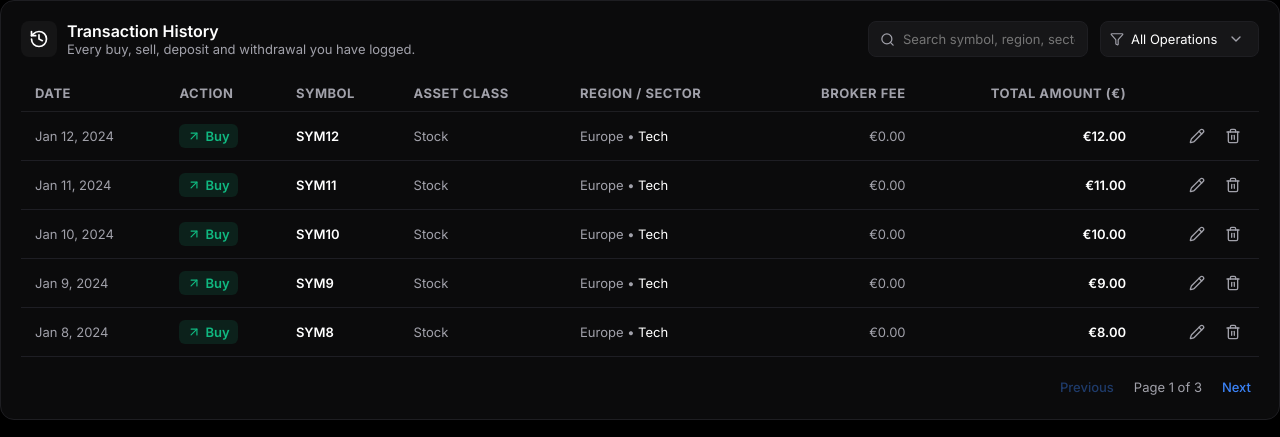
Test case: TransactionHistoryTable pagination › returns to the first page when the search changes
Expected: the text "SYM12" is shown, top-left (282, 112), bottom-right (400, 160)
Step 1. Click the button "Next" → (1236, 387), box top-left (1214, 375), bottom-right (1259, 399)
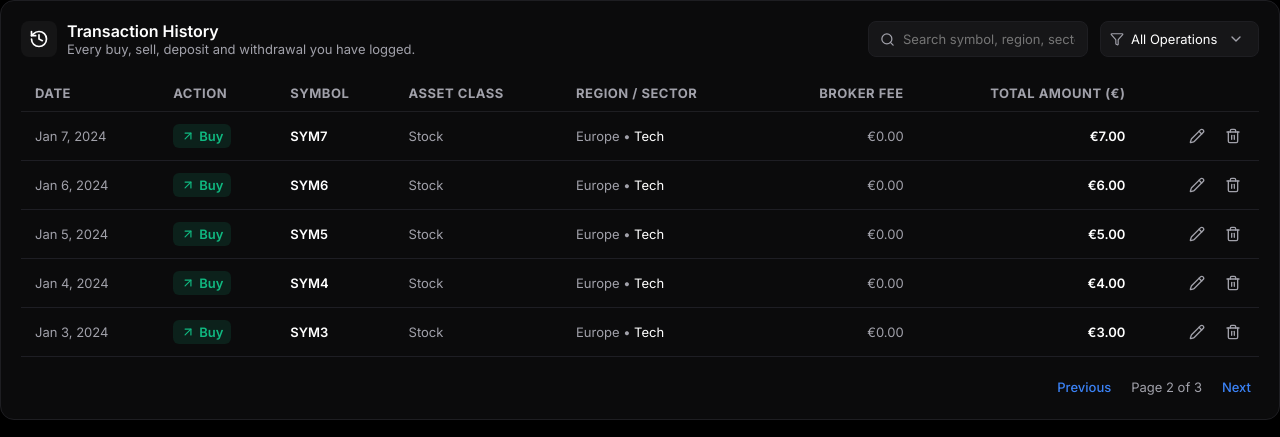
Step 2. Type "europe" into the field with placeholder "Search symbol, region, sector..." → (978, 39), box top-left (868, 21), bottom-right (1088, 57)
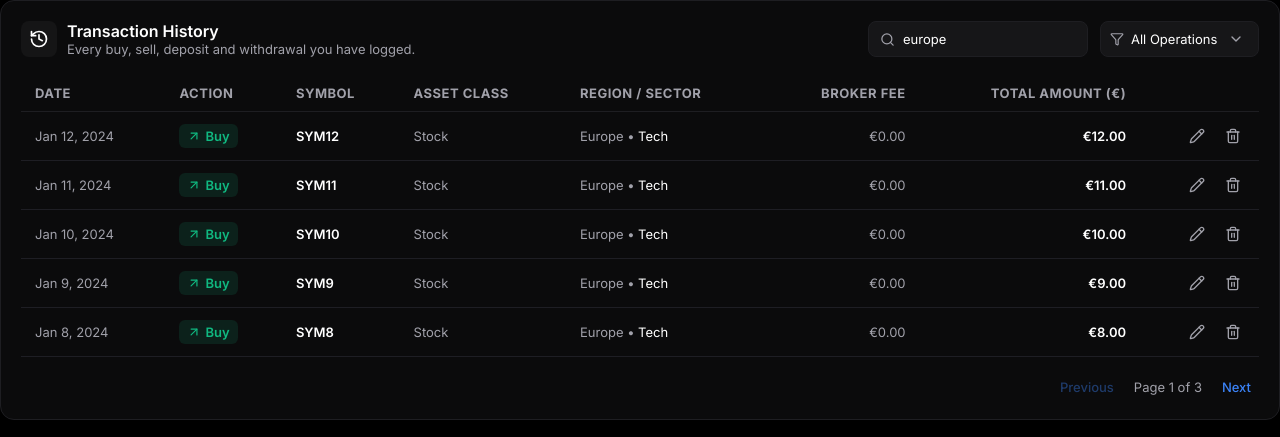
Result: the text "Page 1 of 3" is shown at top-left (1134, 379), bottom-right (1202, 395)
